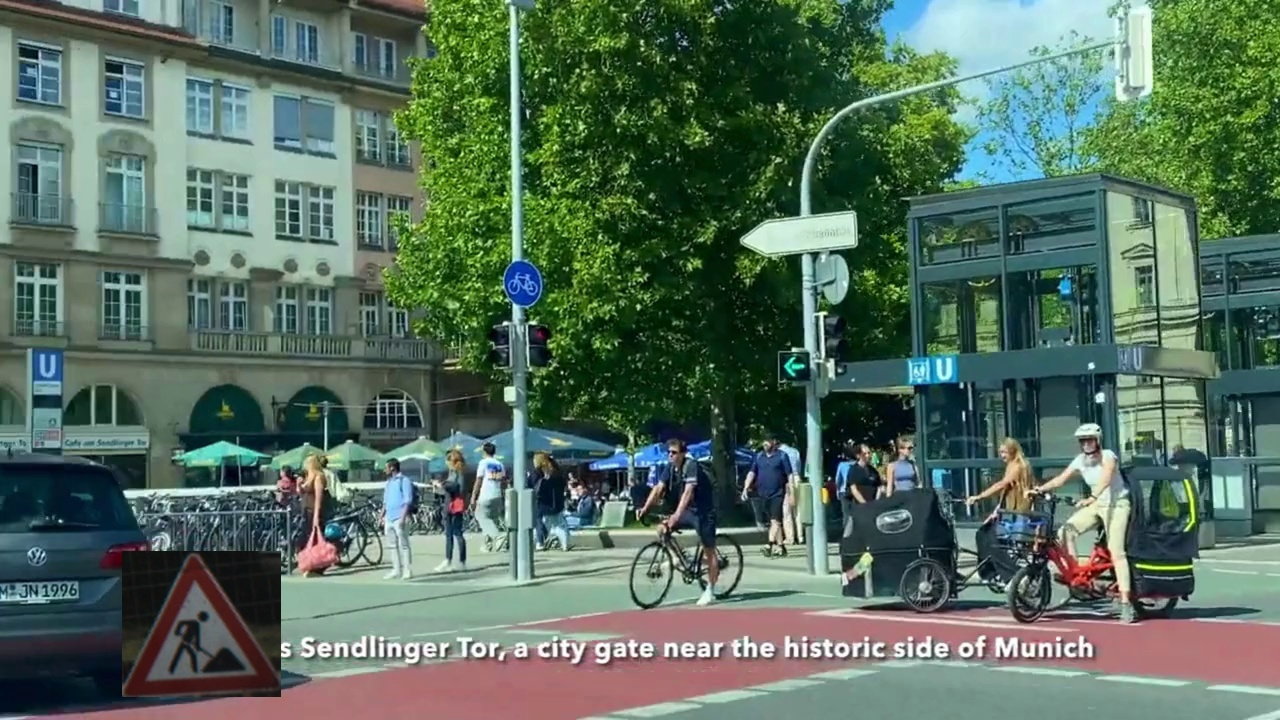Road work: (122, 551, 281, 697)
